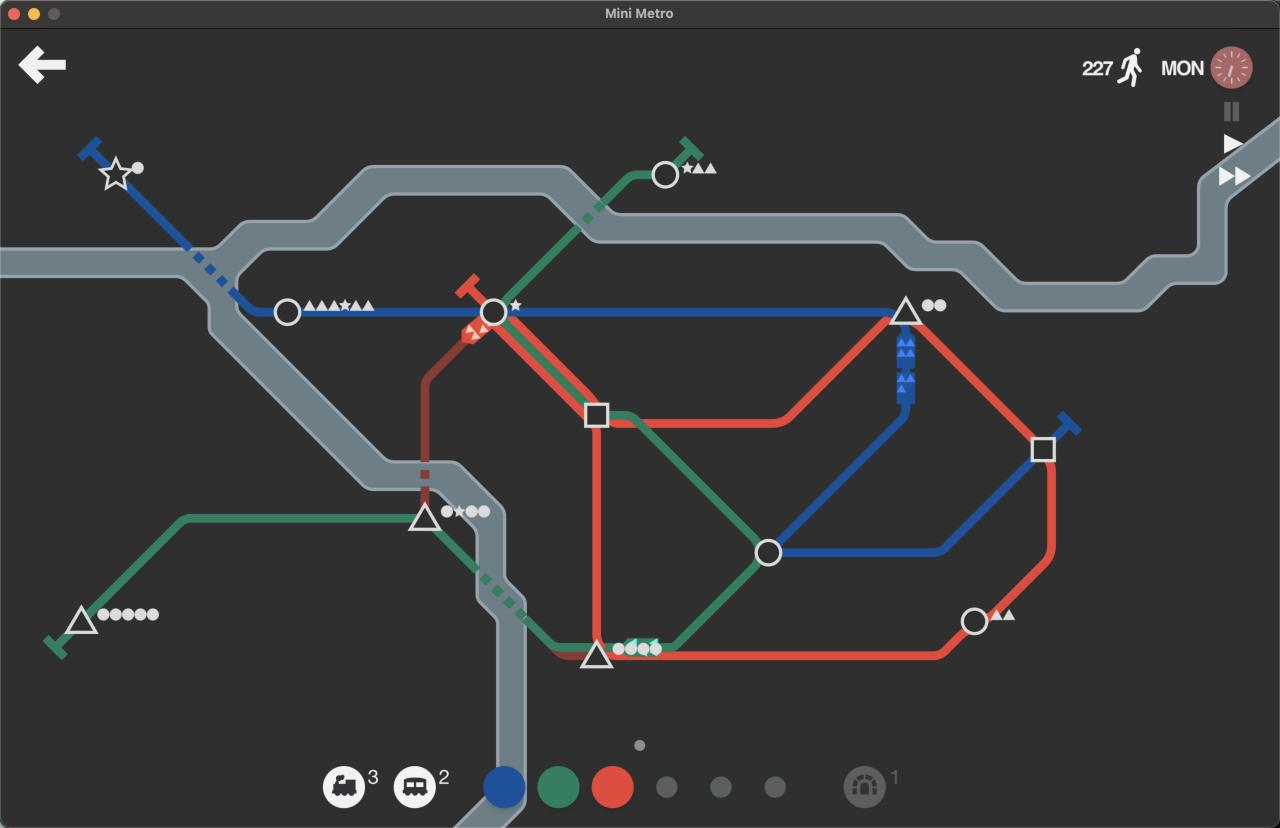CIRCLE: (479, 297, 509, 327), (650, 160, 680, 189), (273, 297, 302, 327), (754, 538, 783, 568), (961, 606, 989, 636)
SQUARE: (1030, 436, 1057, 462), (584, 402, 610, 428)
STAR: (96, 156, 141, 192)
TRIANGLE: (63, 603, 99, 637), (407, 500, 442, 532), (579, 639, 615, 670), (889, 295, 924, 326)
